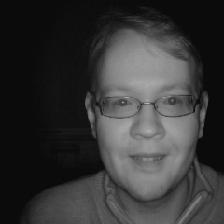happy: (70, 10, 224, 203)
